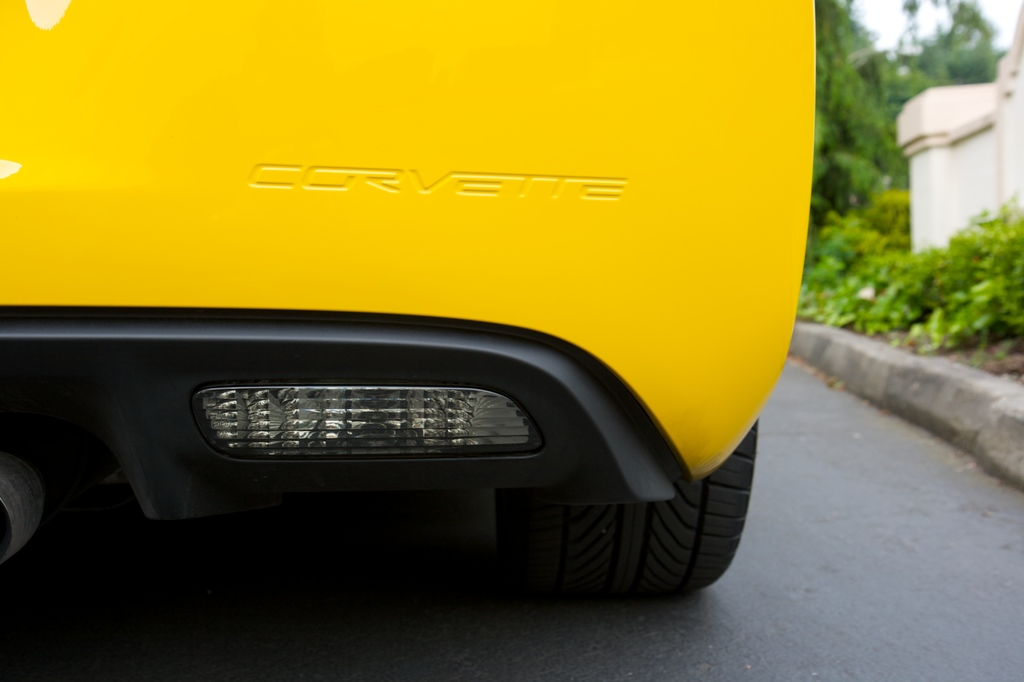Car: (0, 52, 840, 625)
